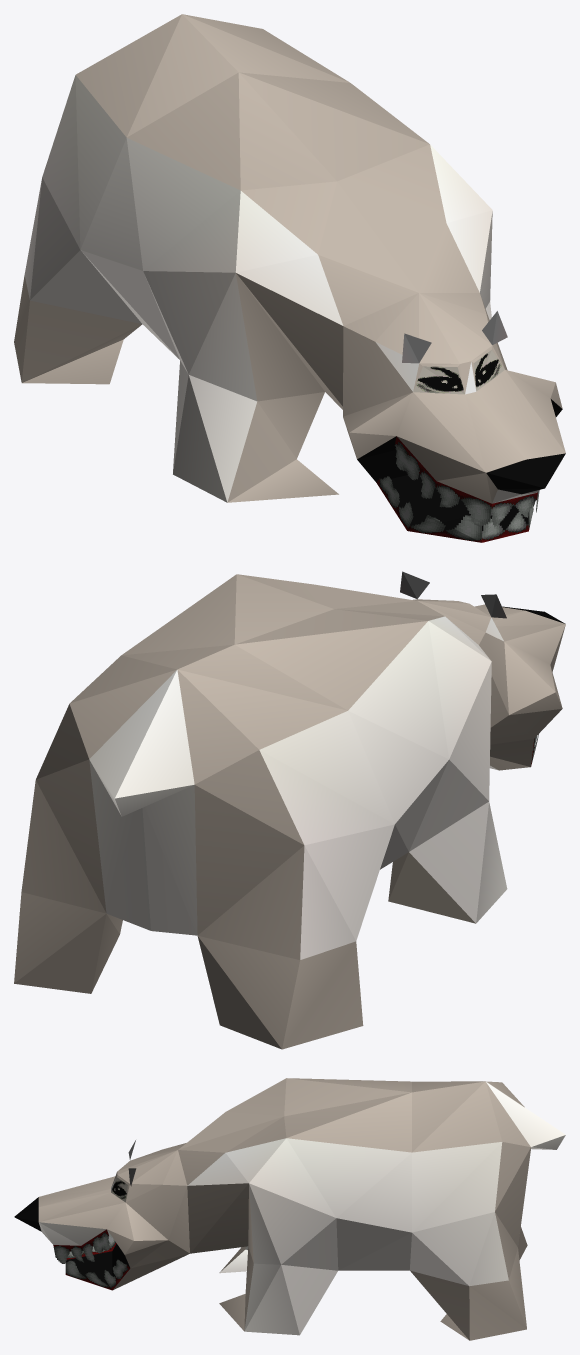
3 views of the same model, one above another, from view 1: azimuth 30°, elevation 25°; view 2: azimuth 150°, elevation 25°; view 3: azimuth 270°, elevation 25° (orthographic). The views are drawn at different scales.
Visible parts, largest first — view 1: part0; view 2: part0; view 3: part0.
Part boxes in pixels (x1,y1,x2,y2): part0: [14, 14, 565, 542]; part0: [14, 571, 565, 1049]; part0: [14, 1078, 565, 1340].
Bounding box in the file's own units: 1.08 × 0.9766 × 2.36.
14 materials, 12 textured.
